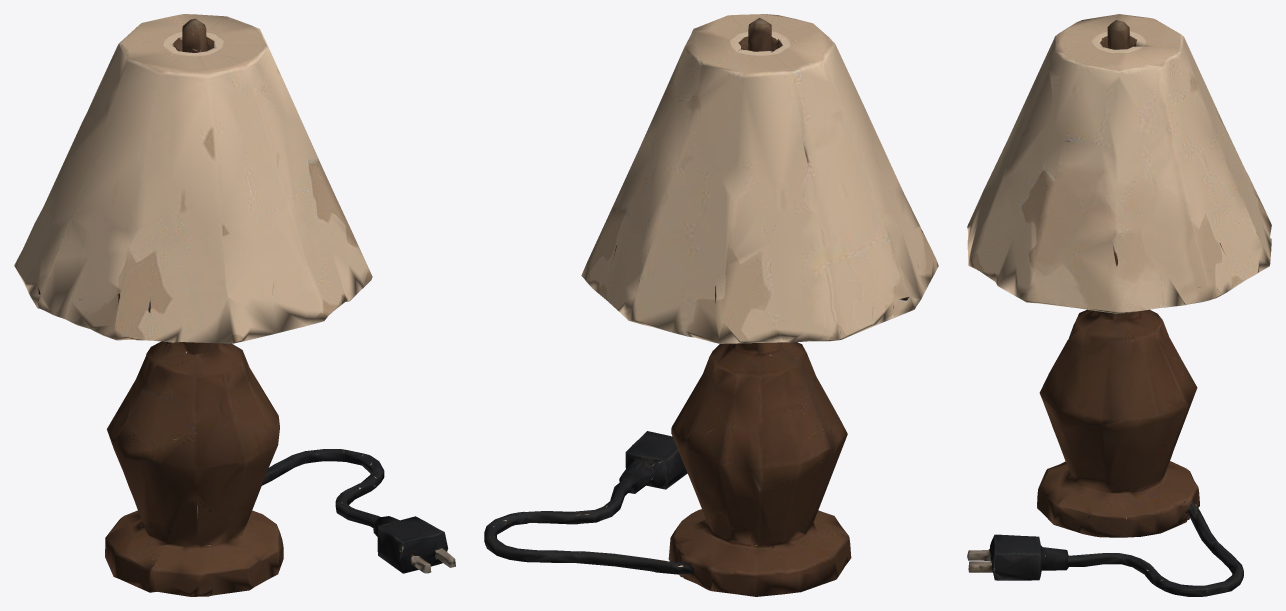
Rendered from lamp.glb.
3 renders of one model, left to right at view 1: azimuth 30°, elevation 25°; view 2: azimuth 150°, elevation 25°; view 3: azimuth 270°, elevation 25°, orthographic. The views are drawn at different scales.
Bounding box in the file's own units: 1.41 × 1.9 × 1.09.
Materials: 1 (1 with a texture image).
